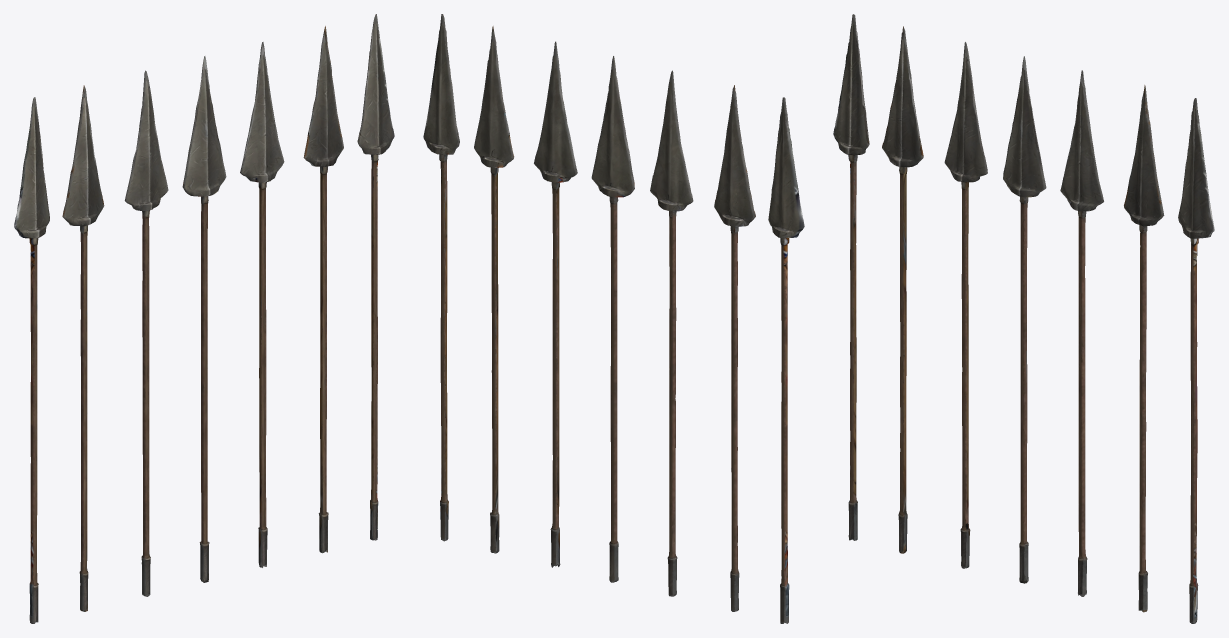
The model's file is obj_spear_trap.glb.
The picture shows the model from 3 angles, left to right: view 1: azimuth 30°, elevation 25°; view 2: azimuth 150°, elevation 25°; view 3: azimuth 330°, elevation 25°; orthographic projection.
Visible parts, largest first — view 1: Spear Trap; view 2: Spear Trap; view 3: Spear Trap.
Boxes of the visible parts, box(x1,y1,x2,y2) form: Spear Trap: box(14, 14, 394, 623); Spear Trap: box(423, 14, 804, 623); Spear Trap: box(833, 14, 1214, 623).
Bounding box in the file's own units: 1.52 × 2.01 × 0.0727.
1 material, 1 textured.
